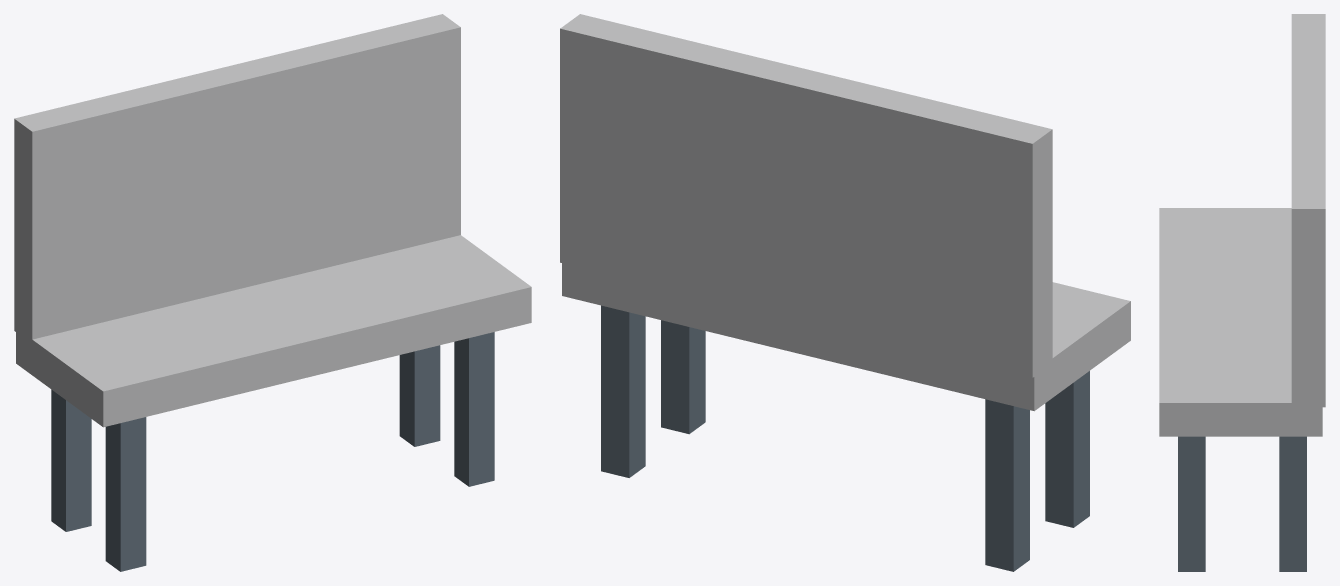
The model's file is banco_plaza_nuevo.glb.
3 renders of one model, left to right at view 1: azimuth 30°, elevation 25°; view 2: azimuth 150°, elevation 25°; view 3: azimuth 270°, elevation 25°, orthographic. The views are drawn at different scales.
Parts seen in each view (by area): view 1: banco_plaza_nuevo_01, banco_plaza_nuevo_00, banco_plaza_nuevo_03, banco_plaza_nuevo_05, banco_plaza_nuevo_02, banco_plaza_nuevo_04; view 2: banco_plaza_nuevo_01, banco_plaza_nuevo_00, banco_plaza_nuevo_02, banco_plaza_nuevo_04, banco_plaza_nuevo_03, banco_plaza_nuevo_05; view 3: banco_plaza_nuevo_00, banco_plaza_nuevo_01, banco_plaza_nuevo_04, banco_plaza_nuevo_05.
Part boxes in pixels (x1=…): banco_plaza_nuevo_01: x1=14, y1=14, x2=460, y2=342; banco_plaza_nuevo_00: x1=16, y1=235, x2=531, y2=427; banco_plaza_nuevo_03: x1=105, y1=417, x2=146, y2=571; banco_plaza_nuevo_05: x1=454, y1=332, x2=494, y2=486; banco_plaza_nuevo_02: x1=51, y1=389, x2=91, y2=531; banco_plaza_nuevo_04: x1=399, y1=345, x2=440, y2=446; banco_plaza_nuevo_01: x1=560, y1=14, x2=1052, y2=377; banco_plaza_nuevo_00: x1=562, y1=263, x2=1130, y2=411; banco_plaza_nuevo_02: x1=985, y1=399, x2=1029, y2=571; banco_plaza_nuevo_04: x1=601, y1=305, x2=645, y2=477; banco_plaza_nuevo_03: x1=1045, y1=371, x2=1089, y2=527; banco_plaza_nuevo_05: x1=661, y1=320, x2=705, y2=434; banco_plaza_nuevo_00: x1=1159, y1=208, x2=1322, y2=436; banco_plaza_nuevo_01: x1=1291, y1=14, x2=1325, y2=407; banco_plaza_nuevo_04: x1=1279, y1=436, x2=1306, y2=571; banco_plaza_nuevo_05: x1=1178, y1=436, x2=1205, y2=571.
Bounding box in the file's own units: 1.5 × 1.34 × 0.54.
